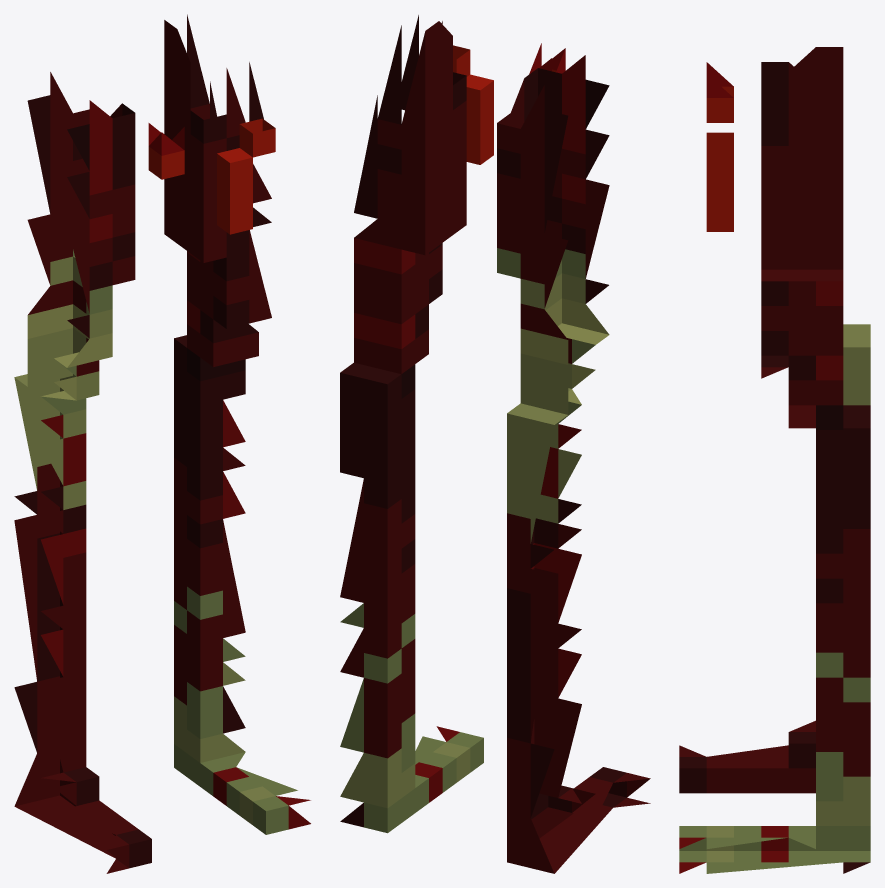
The model's file is zed6_legs.glb.
The picture shows the model from 3 angles, left to right: view 1: azimuth 30°, elevation 25°; view 2: azimuth 150°, elevation 25°; view 3: azimuth 270°, elevation 25°; orthographic projection. The views are drawn at different scales.
Visible parts, largest first — view 1: zed6_legs; view 2: zed6_legs; view 3: zed6_legs.
Part boxes in pixels (bbox=[...]): zed6_legs: bbox=[14, 14, 310, 873]; zed6_legs: bbox=[340, 15, 650, 873]; zed6_legs: bbox=[679, 47, 870, 873].
Size of the model in its own units: 0.2812 by 1 by 0.2188.
Materials: 1 (1 with a texture image).
